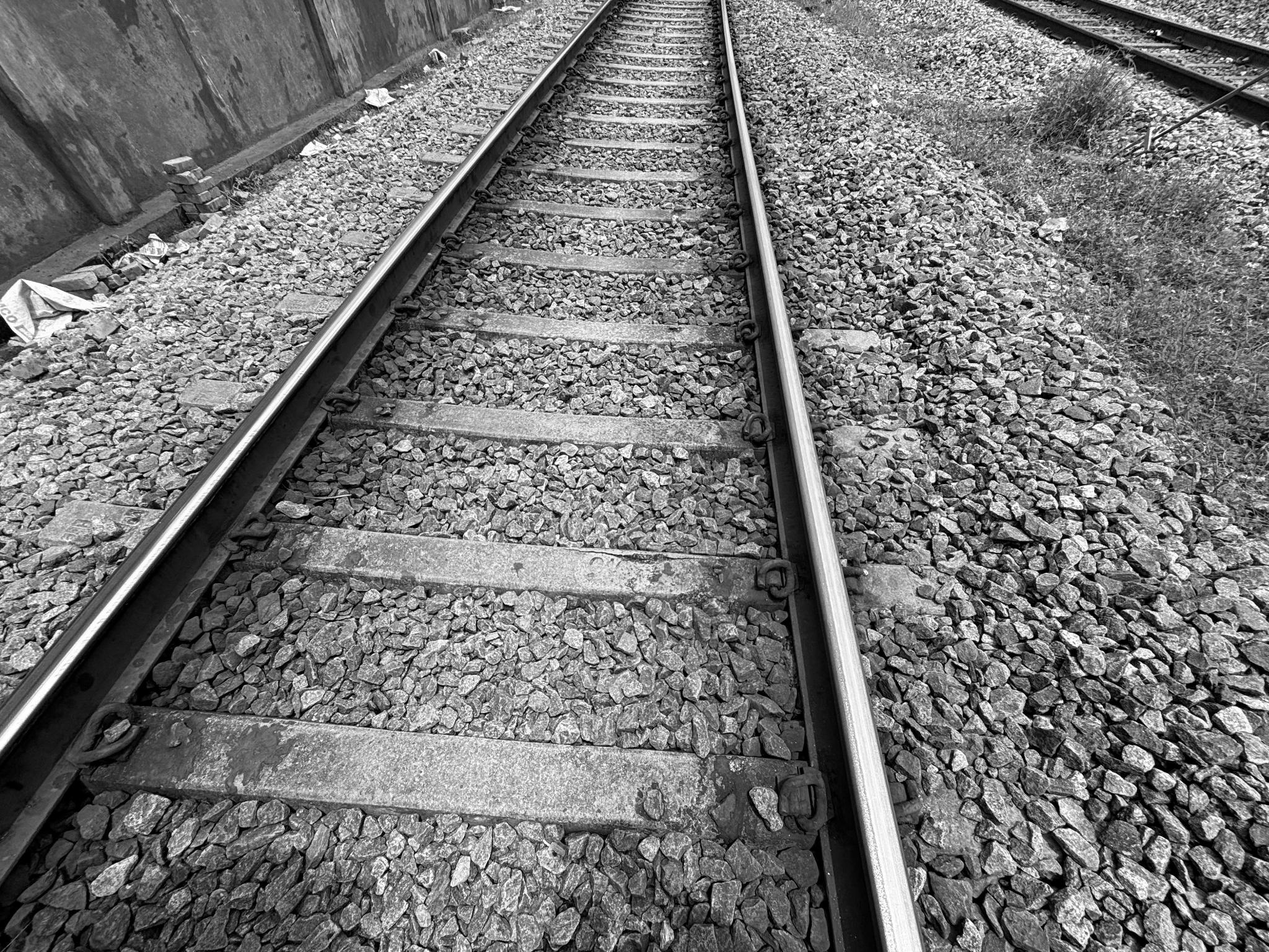cracks in midportion: (544, 544, 708, 571)
